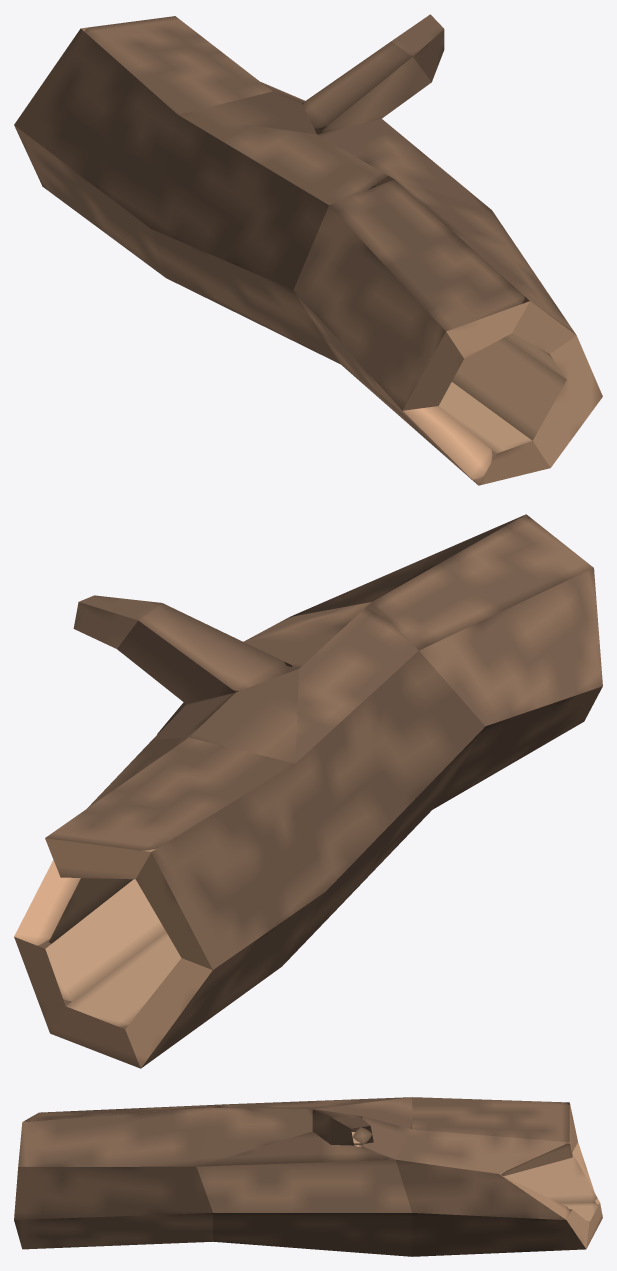
File: Ext-Tronco1.fbx
3 renders of one model, top to bottom at view 1: azimuth 30°, elevation 25°; view 2: azimuth 150°, elevation 25°; view 3: azimuth 270°, elevation 25°, orthographic. The views are drawn at different scales.
Parts seen in each view (by area): view 1: tube; view 2: tube; view 3: tube.
Boxes of the visible parts, box(x1,y1,x2,y2) form: tube: box(14, 14, 602, 485); tube: box(14, 514, 602, 1068); tube: box(14, 1097, 602, 1256).
Bounding box in the file's own units: 110 × 92.96 × 296.
1 material, 1 textured.
